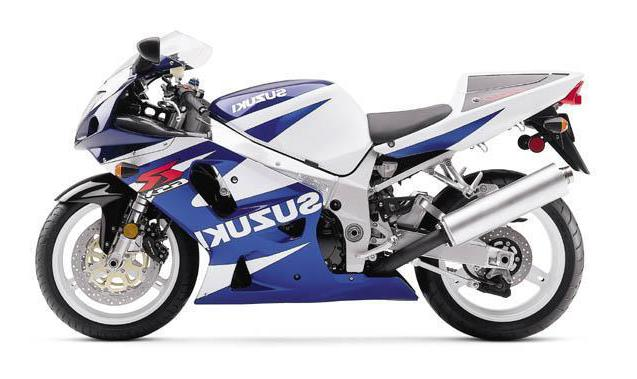motorcycle: (12, 6, 611, 359)
